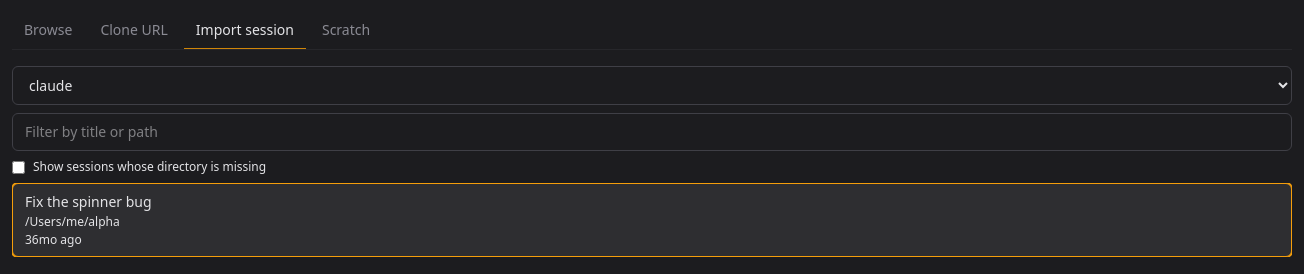
Import session tab › highlights the selected session and filters by title
Type "zzznomatch" into the field named "Filter sessions" at point(652, 132), box 12,113 -> 1292,151
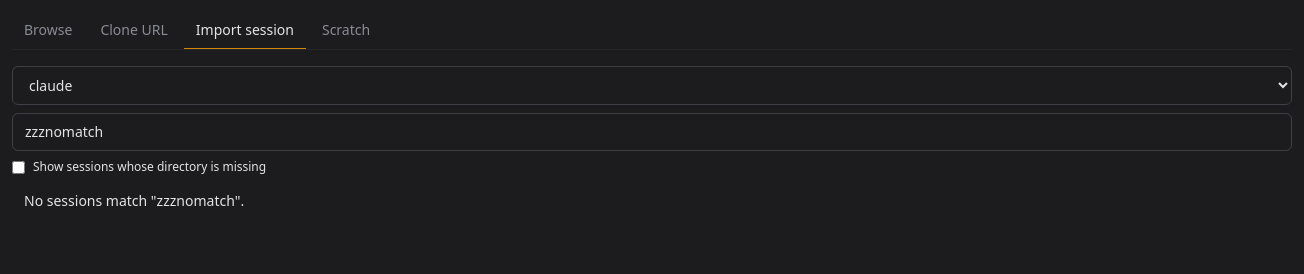
expect the button "Fix the spinner bug" is gone: met
